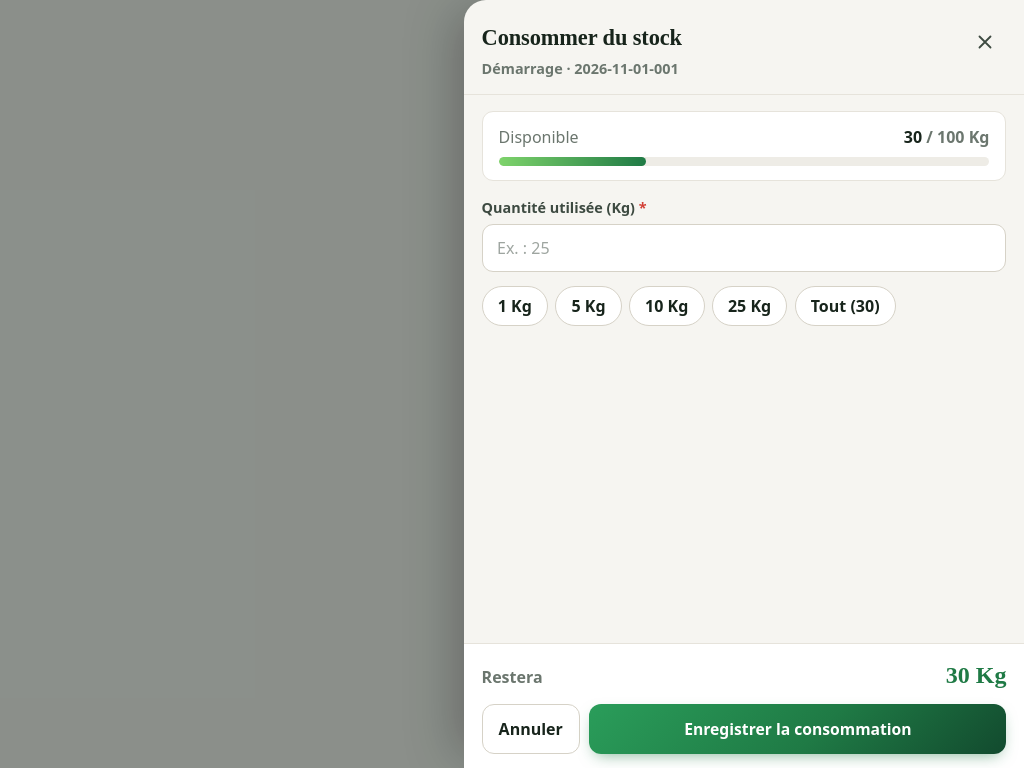
Test: actions sur les saisies existantes › consommation : affiche ce qui restera et refuse plus que le disponible
This screenshot has width=1024, height=768.
Type "12" into the field with placeholder "Ex. : 25". click: (744, 248)
box: [482,224,1006,272]
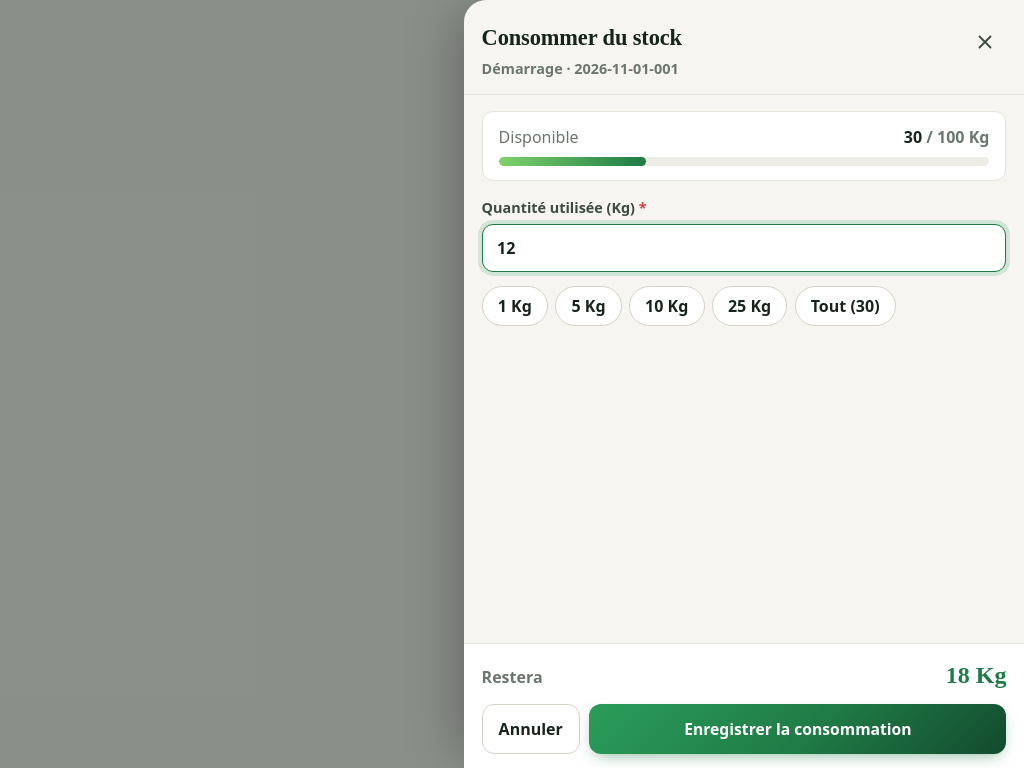
Expected: the text "18 Kg" is shown, [946,657,1006,693]
Replace the text in the field with placeholder "Ex. : 25" with "40". click: (744, 248)
box: [482,224,1006,272]
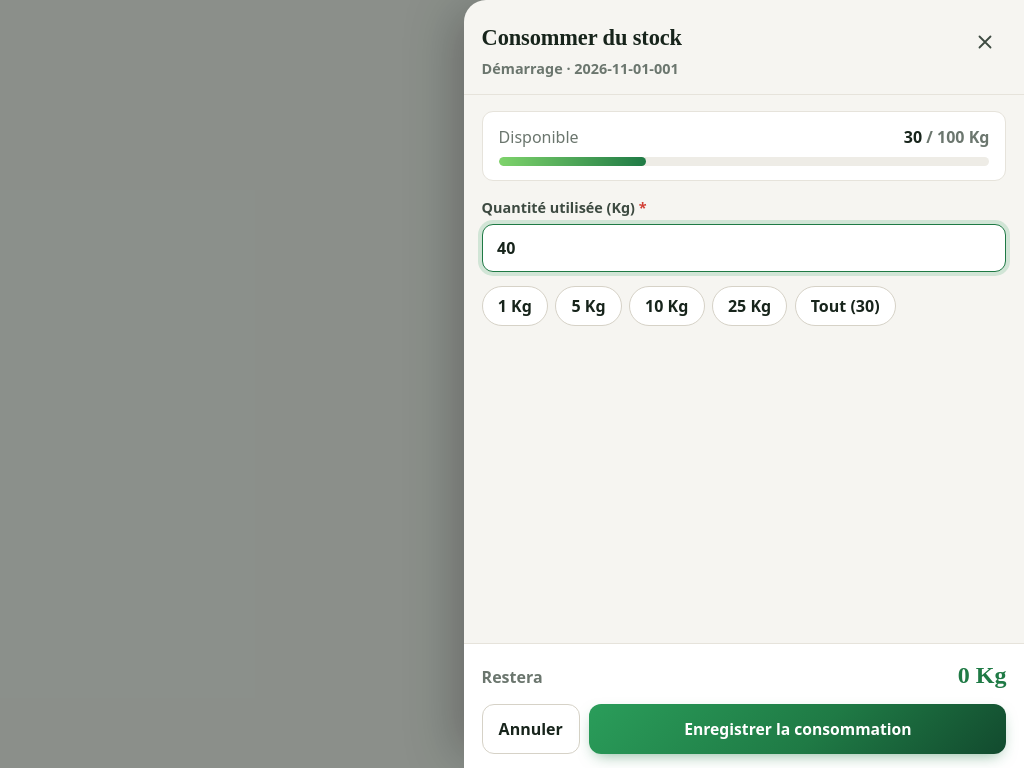
Click the button "Enregistrer la consommation". click: (798, 729)
box: [589,704,1006,754]
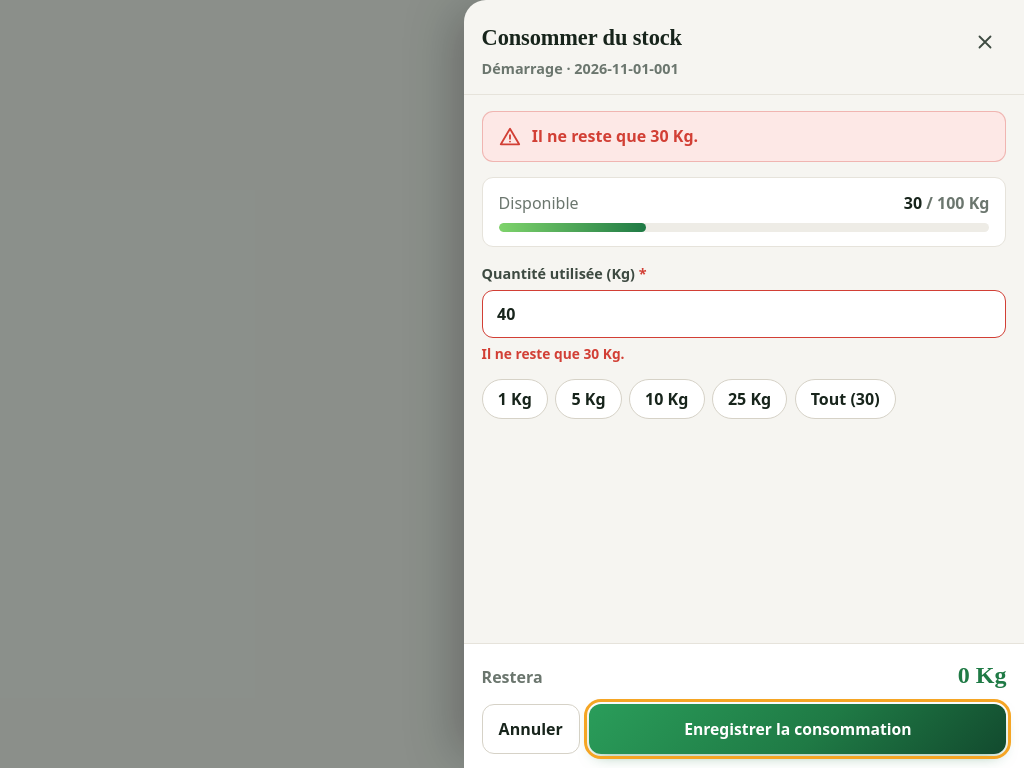
Expected: the text "Il ne reste que 30 Kg." is shown, [532,124,698,148]
